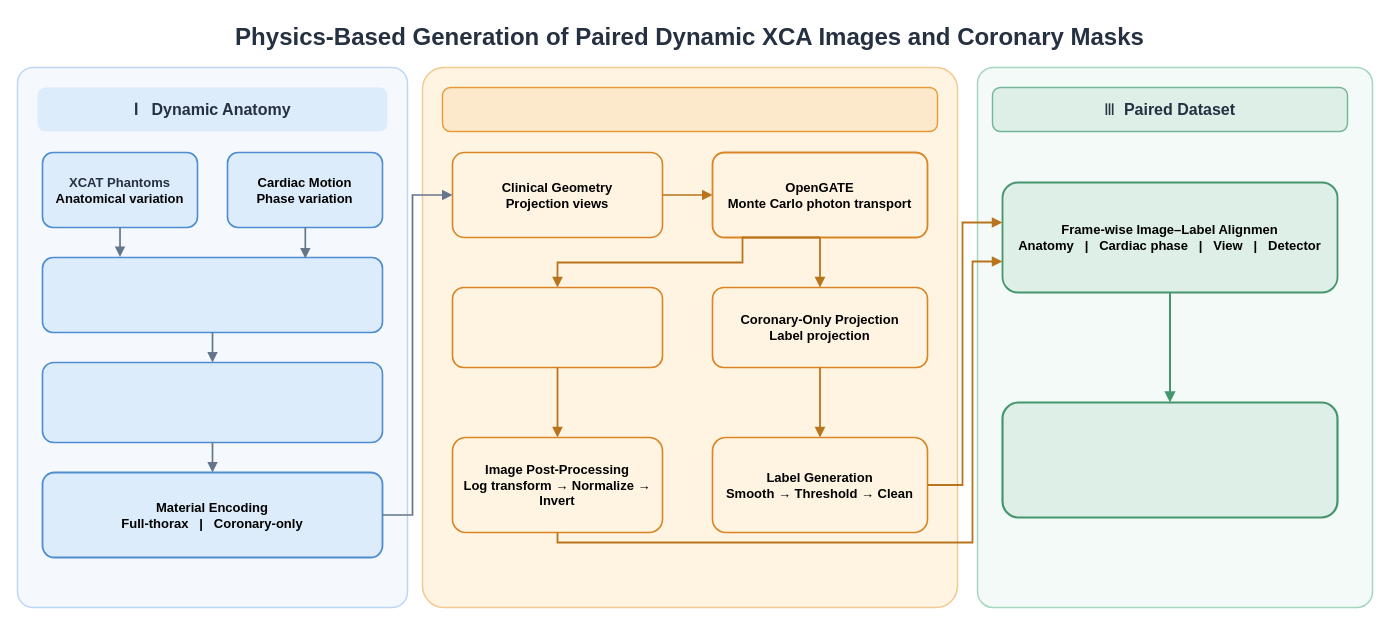
The diagram is 1391 pixels wide and 625 high, and some of its shapes have lost their labels. The shapes that lost their labels are listed below. From the top down, each one's box as (x1, y1, x2, y2) in pixels, then its label:
(441, 86, 938, 132): Ⅱ Monte Carlo Projection
(41, 256, 383, 333): Paired Phantoms With coronary arteries | Without coronary arteries
(451, 286, 663, 368): Full-Thorax Projection Image formation
(41, 361, 383, 443): Coronary Extraction Voxel subtraction → Connectivity filtering
(1001, 401, 1338, 518): Labeled Synthetic Data Synthetic XCA + Binary coronary label
